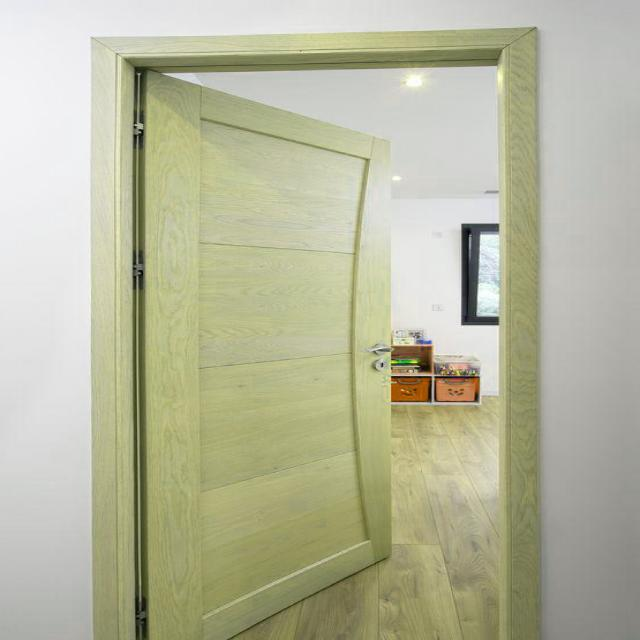door: (90, 23, 549, 638)
